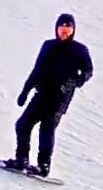snowboarder: (0, 13, 95, 186)
